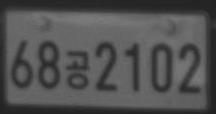0: (149, 42, 174, 92)
1: (124, 42, 146, 92)
2: (178, 43, 201, 94), (95, 41, 117, 91)
6: (10, 39, 33, 88)
8: (37, 40, 60, 89)
공: (65, 49, 90, 90)
